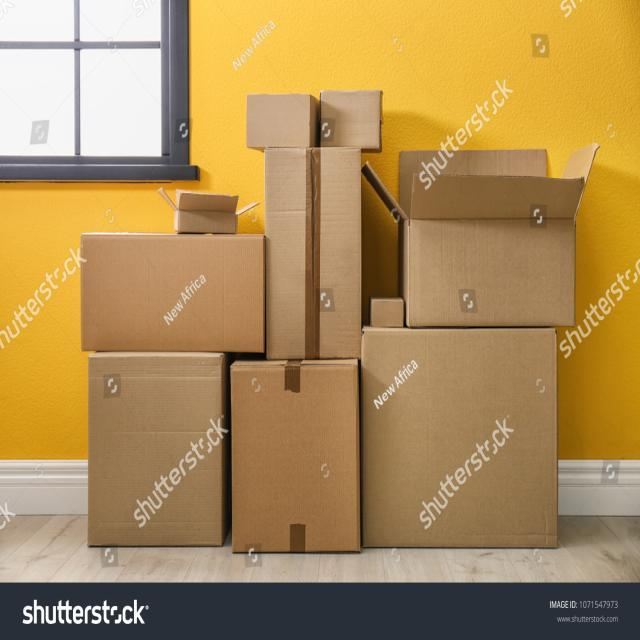BoxFace: (362, 328, 560, 548), (88, 354, 224, 547), (231, 362, 360, 554), (80, 232, 266, 354), (266, 147, 362, 361), (407, 220, 576, 326), (322, 90, 382, 148), (246, 96, 309, 150), (178, 210, 236, 234), (370, 298, 405, 328)
